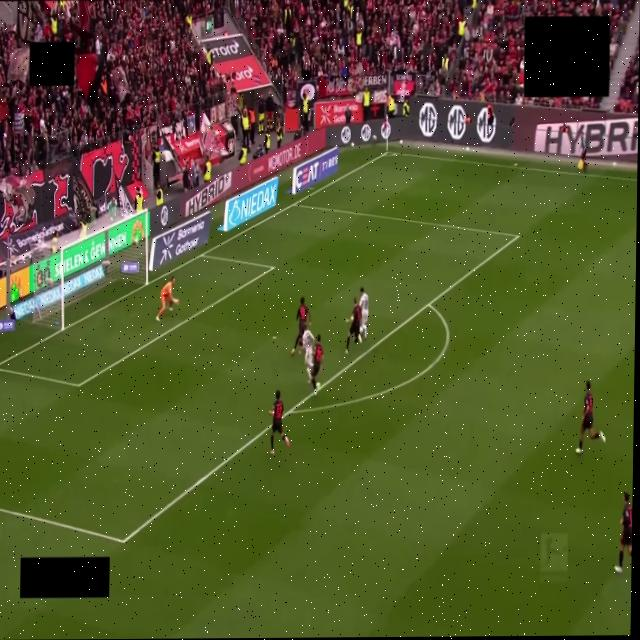player: (576, 381, 605, 454), (614, 492, 631, 573), (270, 390, 289, 454), (291, 298, 310, 356), (156, 278, 178, 321), (346, 299, 361, 354), (310, 335, 323, 396), (302, 328, 315, 381), (359, 287, 369, 339)
